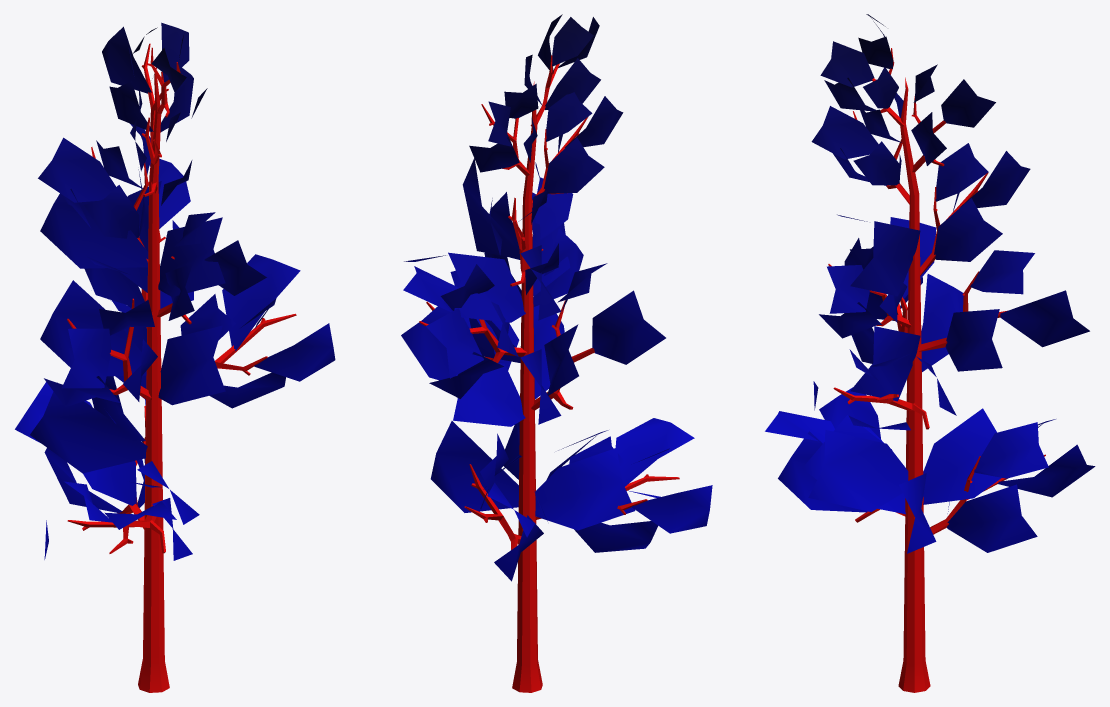
The model's file is SM_Tree_Birch_Dead_01.gltf.
The picture shows the model from 3 angles, left to right: view 1: azimuth 30°, elevation 25°; view 2: azimuth 150°, elevation 25°; view 3: azimuth 270°, elevation 25°; orthographic projection. The views are drawn at different scales.
Visible parts, largest first — view 1: SM_Tree_Birch_Dead_01; view 2: SM_Tree_Birch_Dead_01; view 3: SM_Tree_Birch_Dead_01.
Boxes of the visible parts, x1,y1,x2,y2 form: SM_Tree_Birch_Dead_01: [15, 22, 335, 692]; SM_Tree_Birch_Dead_01: [401, 14, 712, 692]; SM_Tree_Birch_Dead_01: [765, 14, 1095, 692].
Size of the model in its own units: 2.16 by 4.49 by 2.1.
